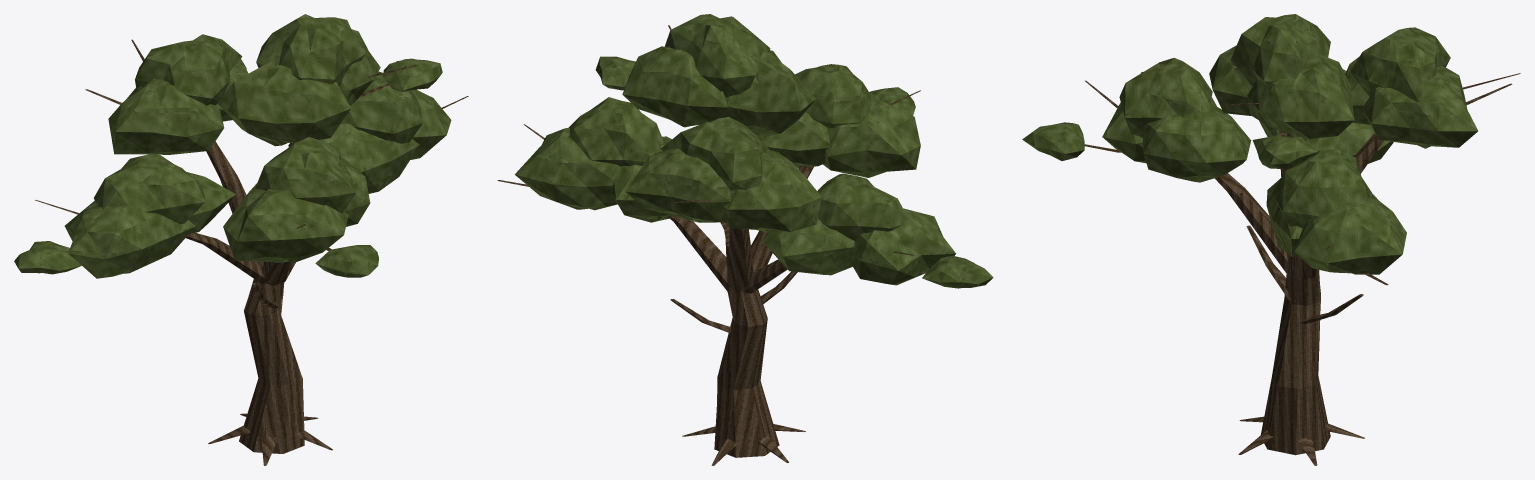
The model's file is oak.glb.
The picture shows the model from 3 angles, left to right: view 1: azimuth 30°, elevation 25°; view 2: azimuth 150°, elevation 25°; view 3: azimuth 270°, elevation 25°; orthographic projection. The views are drawn at different scales.
Parts seen in each view (by area): view 1: Oak_AsymmetricCrown, Oak_BranchedTrunk; view 2: Oak_AsymmetricCrown, Oak_BranchedTrunk; view 3: Oak_AsymmetricCrown, Oak_BranchedTrunk.
Boxes of the visible parts, x1,y1,x2,y2 form: Oak_AsymmetricCrown: (14, 14, 451, 278); Oak_BranchedTrunk: (35, 39, 468, 465); Oak_AsymmetricCrown: (515, 14, 993, 288); Oak_BranchedTrunk: (497, 25, 926, 465); Oak_AsymmetricCrown: (1022, 14, 1477, 274); Oak_BranchedTrunk: (1084, 73, 1520, 465).
Size of the model in its own units: 7.03 by 6.05 by 6.22.
Materials: 2 (2 with a texture image).
